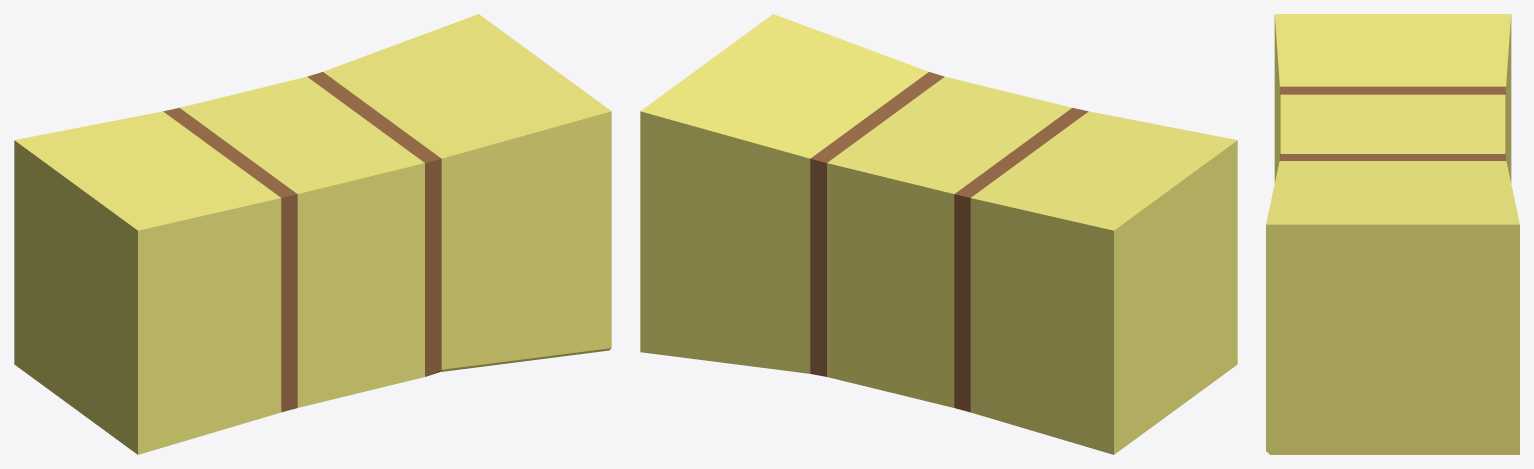
File: HayStack.fbx
3 views of the same model, side by side, from view 1: azimuth 30°, elevation 25°; view 2: azimuth 150°, elevation 25°; view 3: azimuth 270°, elevation 25° (orthographic). The views are drawn at different scales.
Parts seen in each view (by area): view 1: HayStack; view 2: HayStack; view 3: HayStack.
Part boxes in pixels (<box>): HayStack: <box>14,14,611,454</box>; HayStack: <box>640,14,1237,454</box>; HayStack: <box>1266,14,1519,454</box>.
Bounding box in the file's own units: 321 × 158 × 158.
